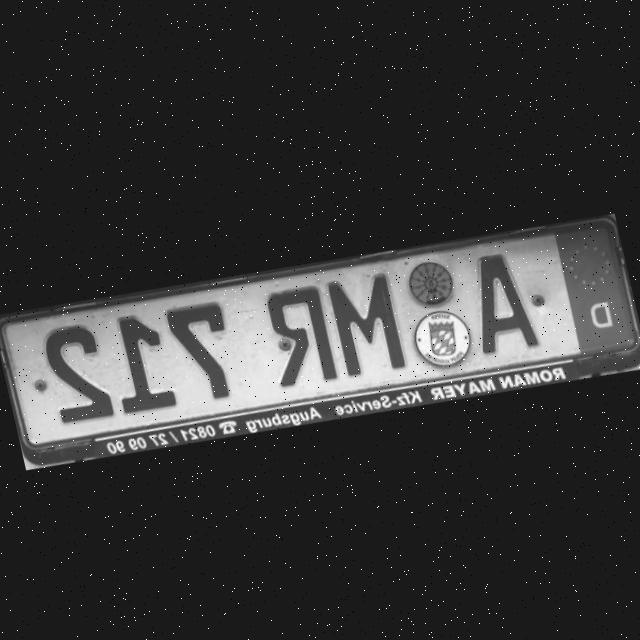license-plates: (2, 221, 638, 445)
